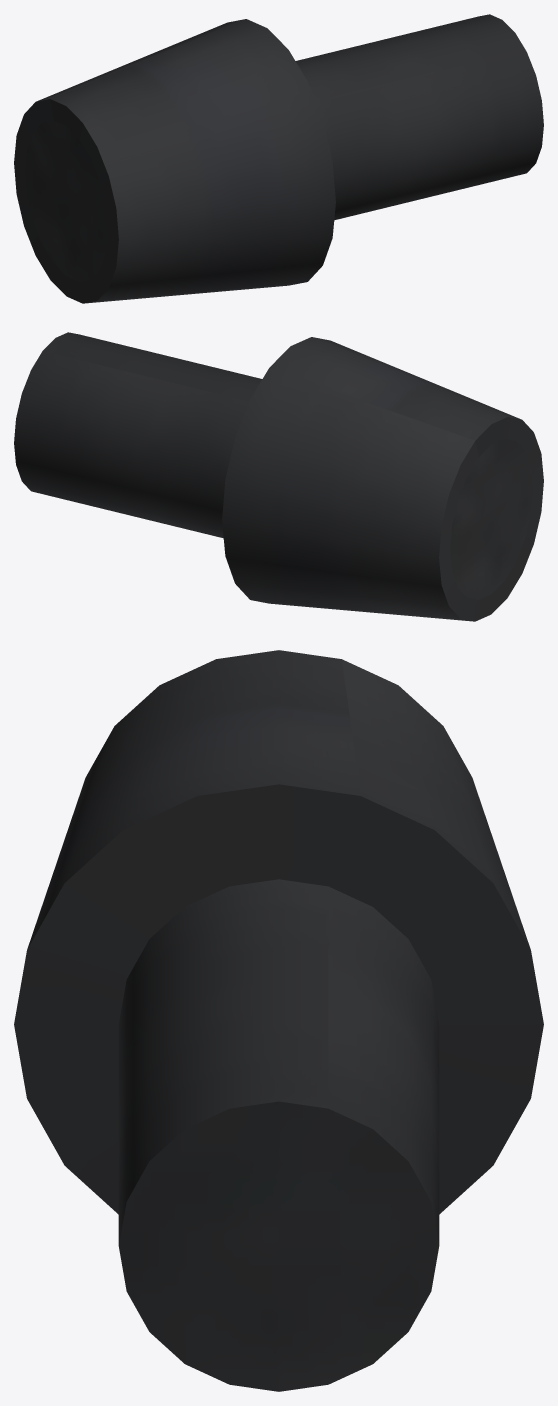
The model's file is FuseBoxPlug.fbx.
The picture shows the model from 3 angles, top to bottom: view 1: azimuth 30°, elevation 25°; view 2: azimuth 150°, elevation 25°; view 3: azimuth 270°, elevation 25°; orthographic projection. The views are drawn at different scales.
Visible parts, largest first — view 1: WirePlug; view 2: WirePlug; view 3: WirePlug.
Part boxes in pixels (x1,y1,x2,y2): WirePlug: [14, 14, 543, 303]; WirePlug: [14, 332, 543, 621]; WirePlug: [14, 650, 543, 1391].
Bounding box in the file's own units: 20.61 × 11.2 × 11.2.
1 material, 1 textured.
